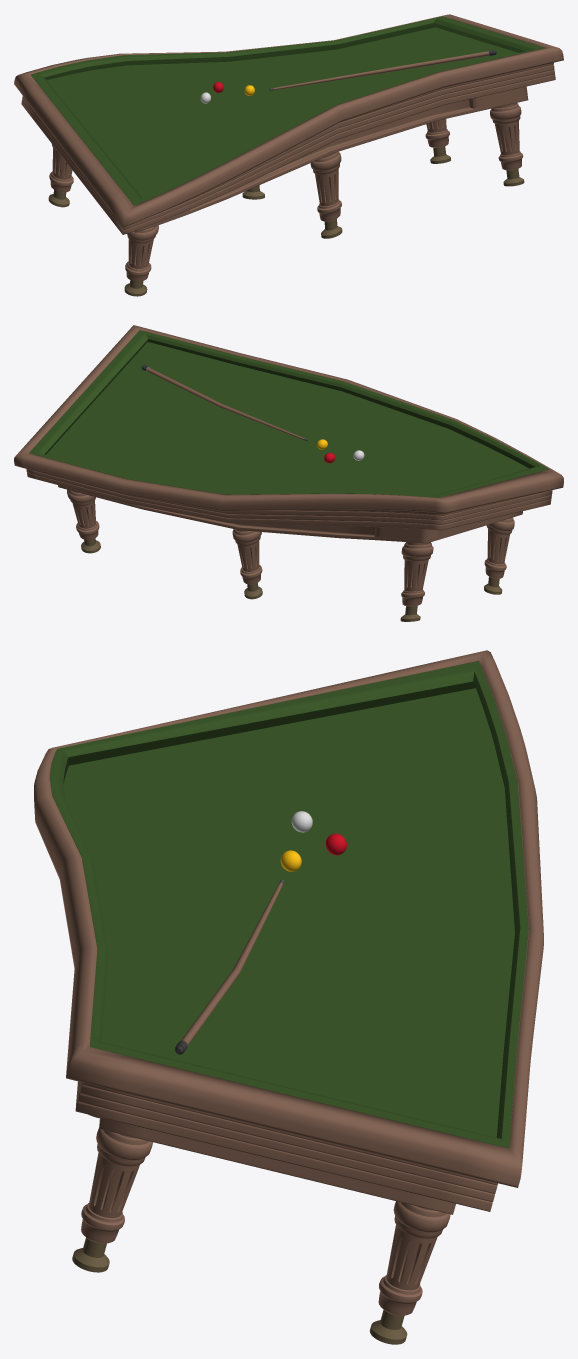
The model's file is table 1.fbx.
3 renders of one model, top to bottom at view 1: azimuth 30°, elevation 25°; view 2: azimuth 150°, elevation 25°; view 3: azimuth 270°, elevation 25°, orthographic. The views are drawn at different scales.
Parts seen in each view (by area): view 1: Default; view 2: Default; view 3: Default.
Part boxes in pixels (left/top/right/bottom): Default: left=14, top=14, right=563, bottom=296; Default: left=14, top=325, right=563, bottom=621; Default: left=34, top=650, right=543, bottom=1344.
Size of the model in its own units: 18.72 by 6.6 by 9.57.
